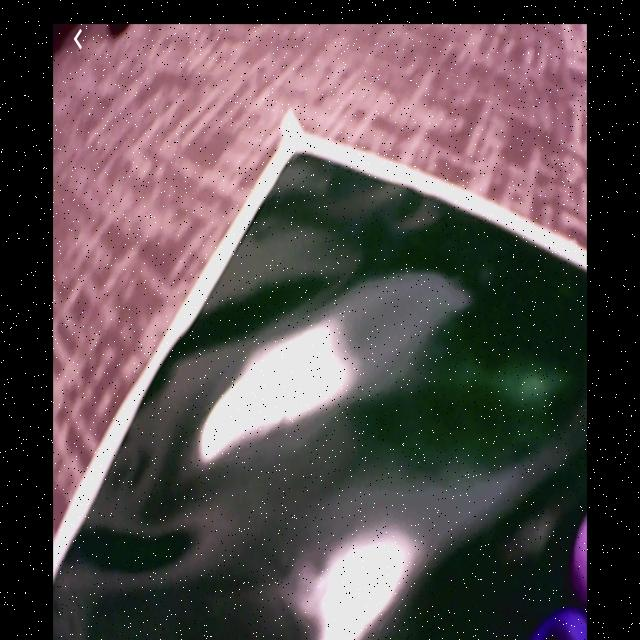ball: (573, 517, 590, 608), (535, 613, 590, 640)
